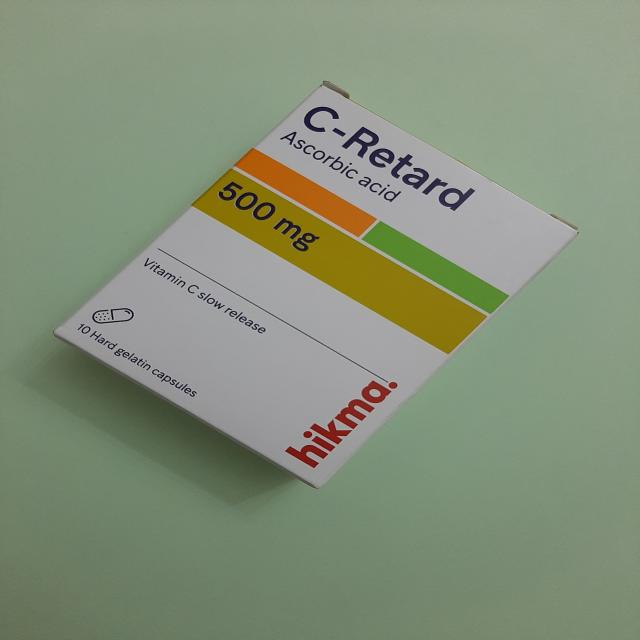C-Retard: (40, 77, 592, 499)
